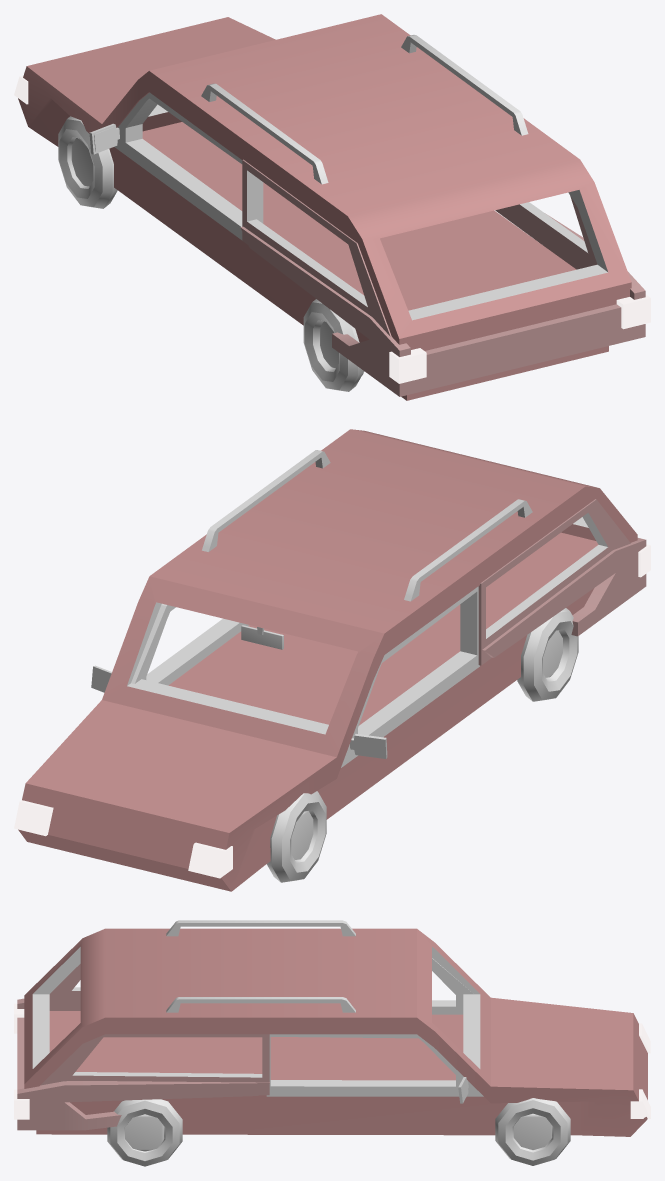
File: Car.fbx
The picture shows the model from 3 angles, top to bottom: view 1: azimuth 30°, elevation 25°; view 2: azimuth 150°, elevation 25°; view 3: azimuth 270°, elevation 25°; orthographic projection. The views are drawn at different scales.
Visible parts, largest first — view 1: Cube_2, Cube_3, Cube_6_2, Cube_7_4, Cube_8_2, Torus_7, Torus_5, Cube_7_2, Cube_6, Cube_7, Cube, Cube_8_5 (+5 smaller); view 2: Cube_2, Cube_3, Cube_6_2, Torus_5, Torus_7, Cube_7_2, Cube_7_4, Cube_8_2, Cube_8_3, Cube, Cube_7, Cube_8_5 (+6 smaller); view 3: Cube_2, Cube_3, Cube_7_4, Cube_8_3, Cube_6, Torus, Torus_1, Cube, Cube_7, Cube_7_3, Cube_15, Cube_16 (+5 smaller).
Boxes of the visible parts, left/top/right/bottom form: Cube_2: left=18, top=14, right=631, bottom=400; Cube_3: left=240, top=213, right=645, bottom=396; Cube_6_2: left=242, top=159, right=391, bottom=336; Cube_7_4: left=148, top=104, right=608, bottom=320; Cube_8_2: left=114, top=92, right=263, bottom=240; Torus_7: left=58, top=116, right=117, bottom=208; Torus_5: left=303, top=299, right=364, bottom=391; Cube_7_2: left=125, top=98, right=242, bottom=226; Cube_6: left=495, top=196, right=597, bottom=269; Cube_7: left=401, top=35, right=528, bottom=135; Cube: left=201, top=83, right=328, bottom=184; Cube_8_5: left=247, top=170, right=367, bottom=306; Cube_2: left=18, top=429, right=637, bottom=891; Cube_3: left=482, top=538, right=646, bottom=657; Cube_6_2: left=478, top=499, right=630, bottom=665; Torus_5: left=517, top=608, right=578, bottom=701; Torus_7: left=267, top=791, right=326, bottom=882; Cube_7_2: left=358, top=592, right=477, bottom=735; Cube_7_4: left=127, top=517, right=588, bottom=734; Cube_8_2: left=341, top=586, right=479, bottom=767; Cube_8_3: left=131, top=603, right=248, bottom=685; Cube: left=404, top=499, right=532, bottom=601; Cube_7: left=202, top=450, right=330, bottom=551; Cube_8_5: left=486, top=513, right=607, bottom=638; Cube_2: left=24, top=928, right=647, bottom=1136; Cube_3: left=17, top=998, right=269, bottom=1130; Cube_7_4: left=32, top=947, right=480, bottom=1068; Cube_8_3: left=266, top=1034, right=483, bottom=1096; Cube_6: left=41, top=1034, right=269, bottom=1095; Torus: left=495, top=1098, right=570, bottom=1165; Torus_1: left=107, top=1099, right=182, bottom=1166; Cube: left=166, top=920, right=355, bottom=936; Cube_7: left=166, top=997, right=355, bottom=1012; Cube_7_3: left=270, top=1080, right=455, bottom=1086; Cube_15: left=125, top=1114, right=164, bottom=1151; Cube_16: left=513, top=1113, right=552, bottom=1149.
Size of the model in its own units: 250 by 174 by 605.
